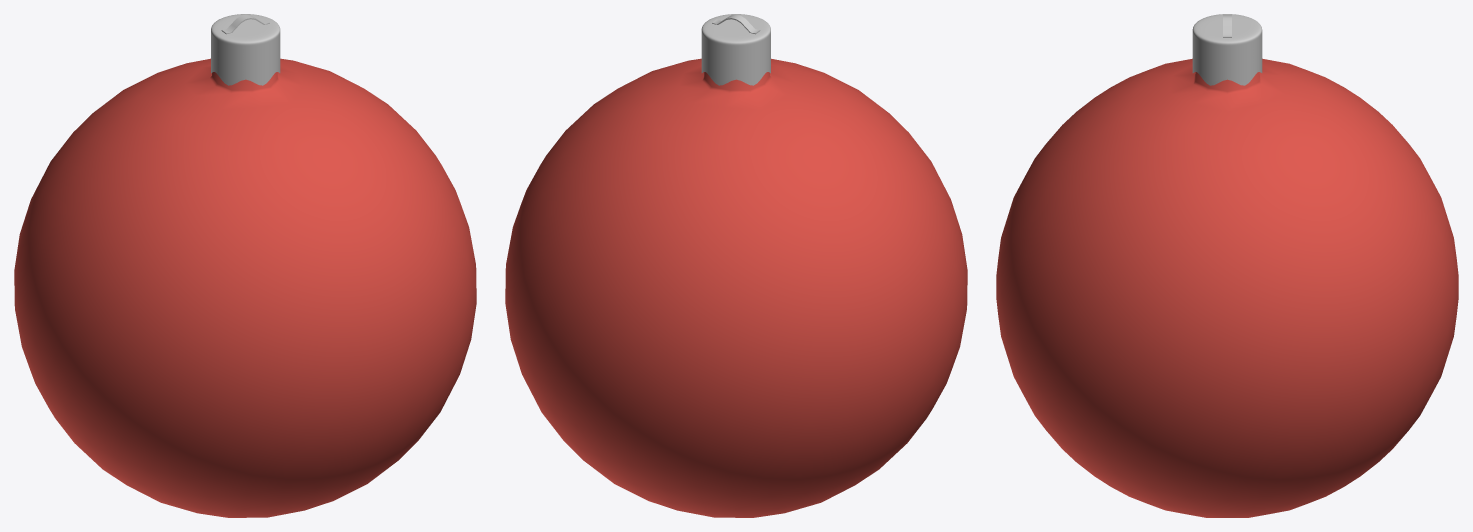
Rendered from ORNAMENT BULB.glb.
3 renders of one model, left to right at view 1: azimuth 30°, elevation 25°; view 2: azimuth 150°, elevation 25°; view 3: azimuth 270°, elevation 25°, orthographic.
Parts seen in each view (by area): view 1: ORNAMENT BULB; view 2: ORNAMENT BULB; view 3: ORNAMENT BULB.
Part boxes in pixels (box(x1,y1,x2,y2)): ORNAMENT BULB: box(14, 14, 476, 517); ORNAMENT BULB: box(505, 14, 967, 517); ORNAMENT BULB: box(996, 14, 1458, 517).
Size of the model in its own units: 17.75 by 20.33 by 17.74.
